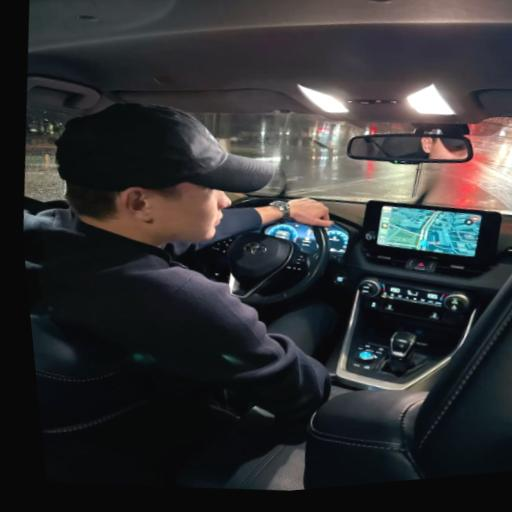Hands-on-the-Wheel: (266, 176, 368, 250)
